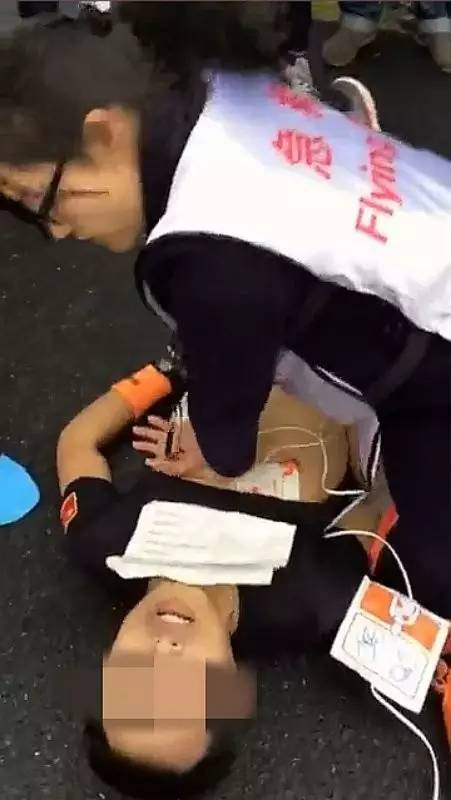fall: (44, 319, 408, 800)
